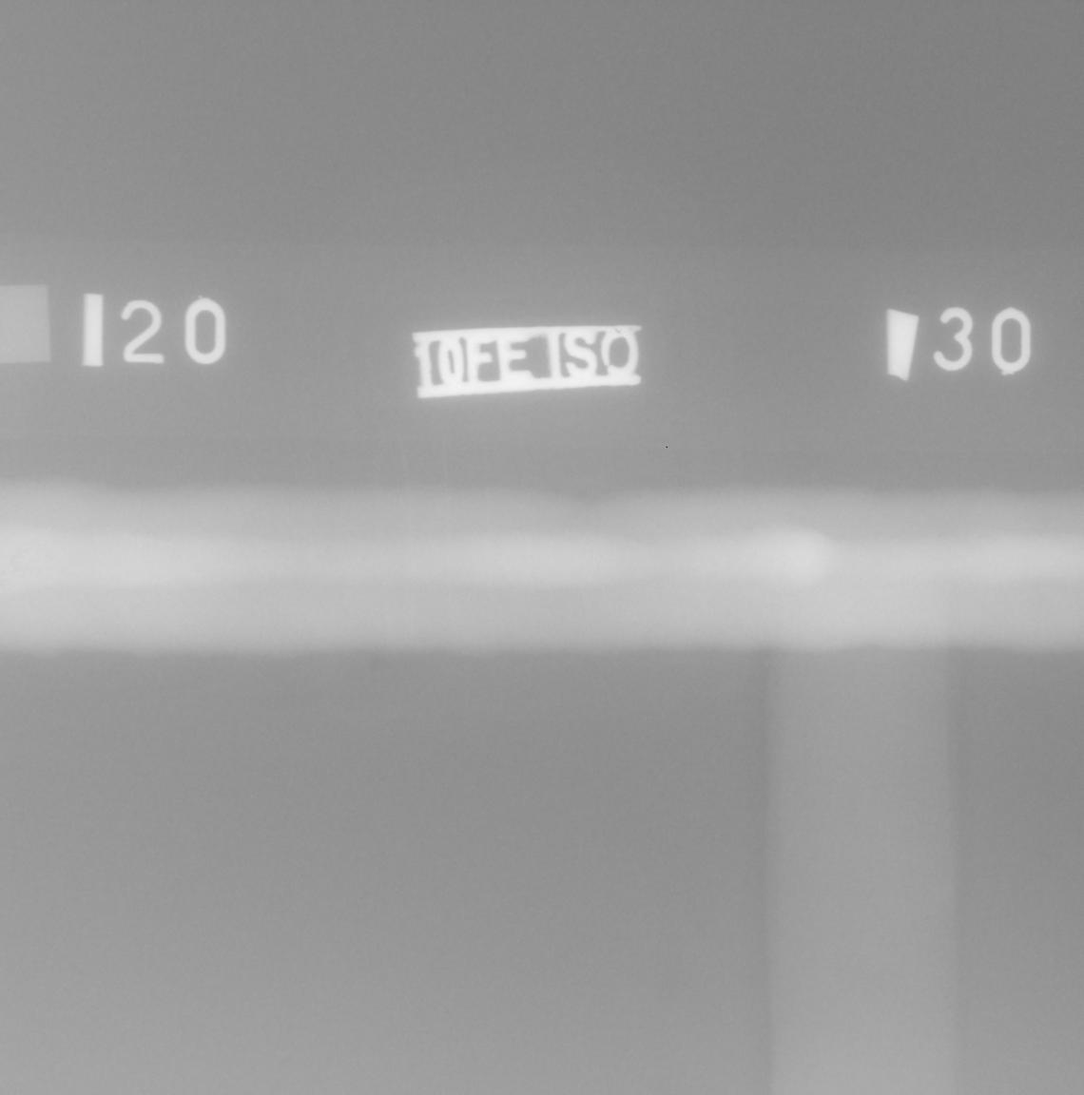Pore/Porosity: (324, 545, 333, 554), (1, 570, 14, 575), (47, 556, 56, 562), (35, 569, 41, 578), (3, 579, 11, 584), (324, 557, 333, 561), (11, 556, 16, 563), (14, 568, 22, 572), (360, 558, 367, 562), (22, 548, 28, 552), (18, 550, 21, 558), (34, 537, 39, 541), (318, 555, 322, 558)
